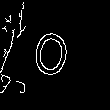O_S: (32, 24, 78, 86)
